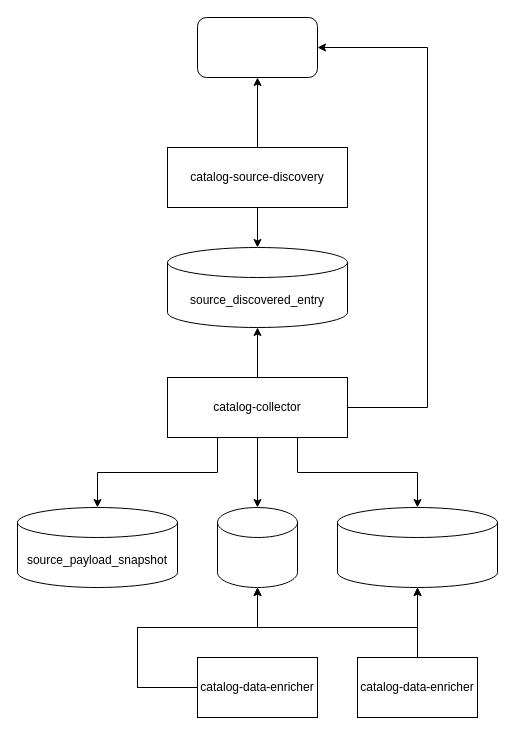
The diagram is 515 pixels wide and 735 high, and some of its shapes have lost their labels. The shapes that lost their labels are listed below. From the top down, each one's centre as x and y in pixels, then its label:
pixel 257 47: Source
pixel 257 547: ingest_item
pixel 417 547: ingest_item_step
